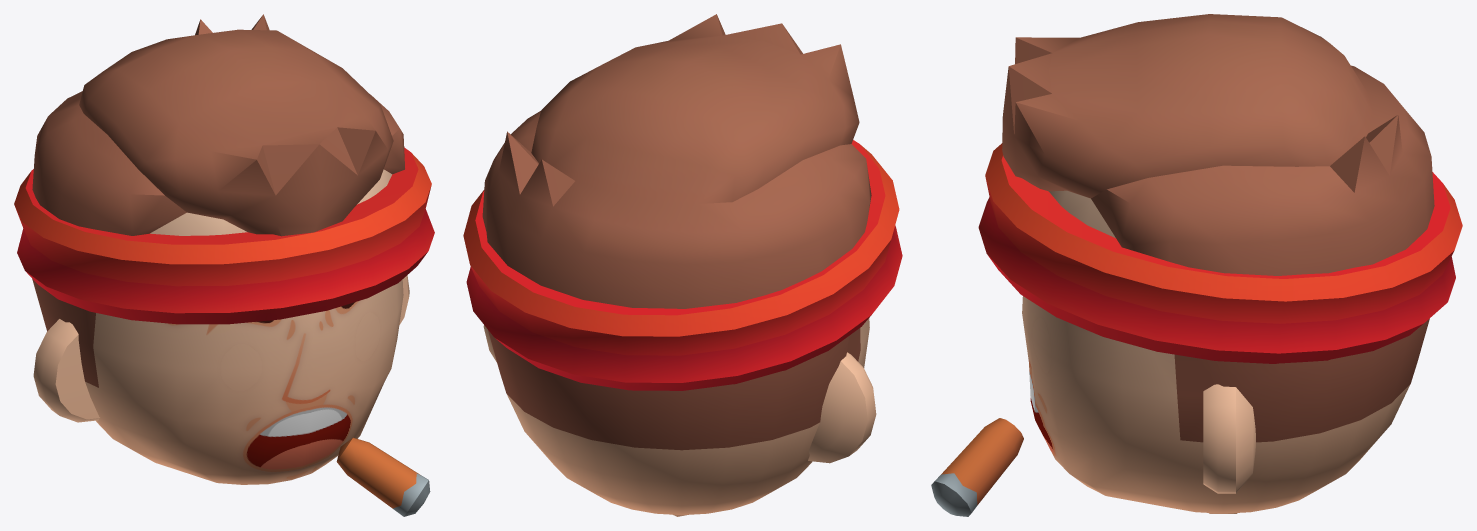
The model's file is ActionFigure_Head_B_NoEyes.glb.
The picture shows the model from 3 angles, left to right: view 1: azimuth 30°, elevation 25°; view 2: azimuth 150°, elevation 25°; view 3: azimuth 270°, elevation 25°; orthographic projection. The views are drawn at different scales.
Visible parts, largest first — view 1: ActionFigure_Head_B, ActionFigure_Head_B_Headband, ActionFigure_Head_B_Cigar; view 2: ActionFigure_Head_B, ActionFigure_Head_B_Headband; view 3: ActionFigure_Head_B, ActionFigure_Head_B_Headband, ActionFigure_Head_B_Cigar.
Part boxes in pixels (left/top/right/bottom): ActionFigure_Head_B: left=32, top=14, right=409, bottom=484; ActionFigure_Head_B_Headband: left=14, top=147, right=434, bottom=324; ActionFigure_Head_B_Cigar: left=336, top=437, right=430, bottom=516; ActionFigure_Head_B: left=482, top=14, right=876, bottom=516; ActionFigure_Head_B_Headband: left=463, top=140, right=902, bottom=390; ActionFigure_Head_B: left=1002, top=14, right=1434, bottom=513; ActionFigure_Head_B_Headband: left=978, top=143, right=1462, bottom=363; ActionFigure_Head_B_Cigar: left=931, top=418, right=1023, bottom=516.
Bounding box in the file's own units: 1.09 × 1.2 × 1.22.
2 materials, 2 textured.
